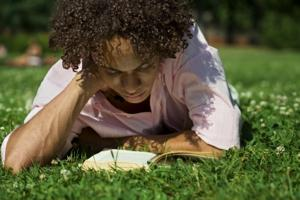person: (1, 1, 242, 175)
